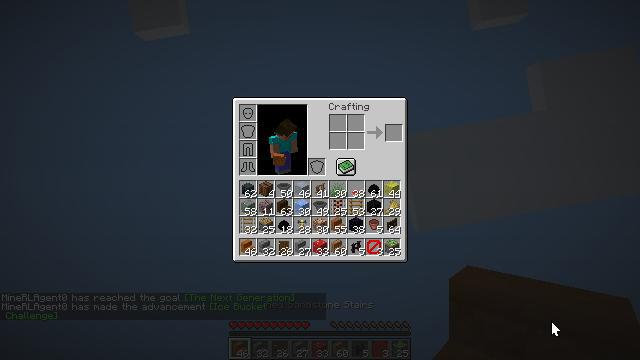cursor: (551, 321, 561, 337)
